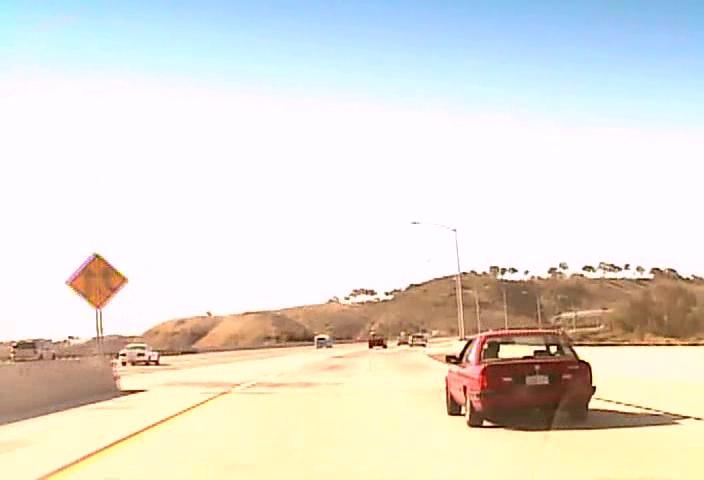addedLane: (66, 252, 128, 310)
